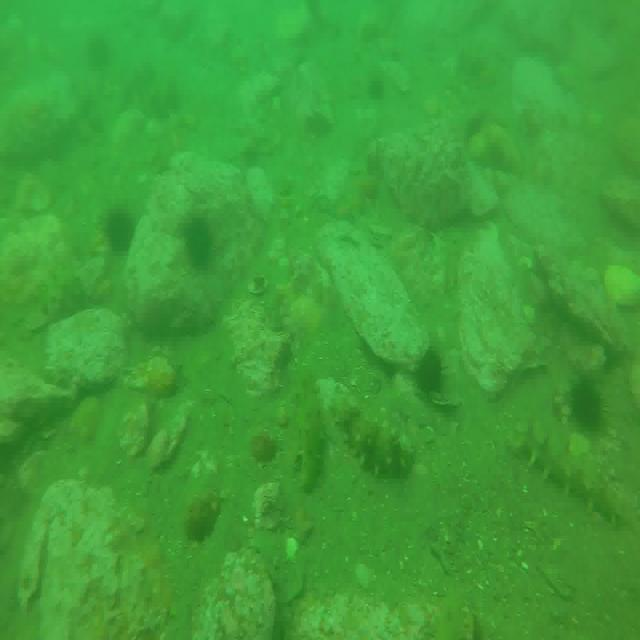echinus: (570, 373, 600, 435), (180, 215, 210, 267), (104, 208, 134, 250), (415, 344, 440, 390)
holothurian: (522, 420, 622, 529), (336, 401, 411, 476), (292, 362, 329, 493)
